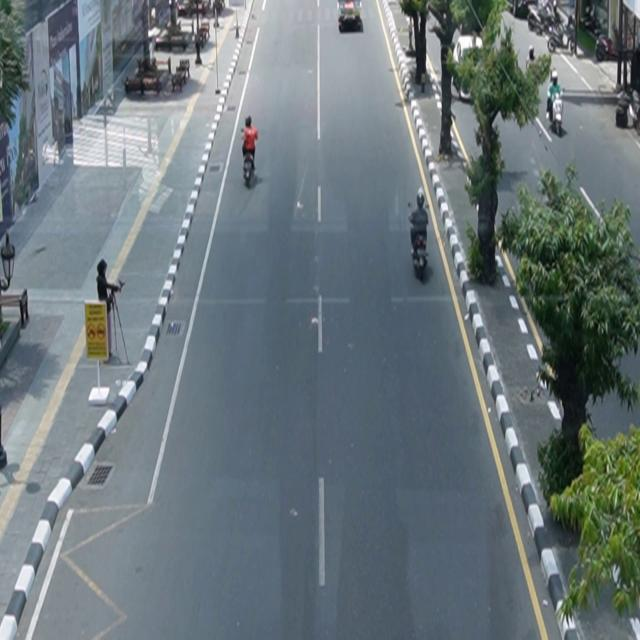car: (452, 35, 485, 103), (338, 1, 362, 32)
